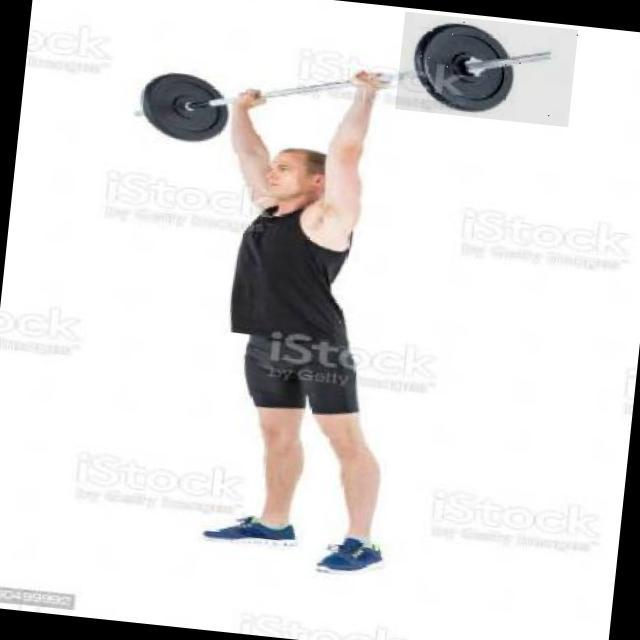barbell: (396, 12, 579, 128)
